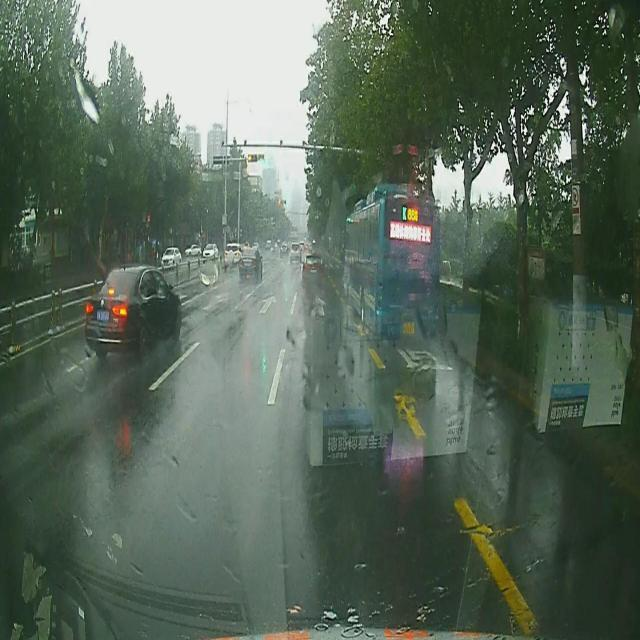car: (84, 263, 184, 361), (300, 252, 326, 286), (238, 248, 263, 278), (223, 238, 241, 272), (162, 244, 182, 267), (286, 241, 304, 263)
